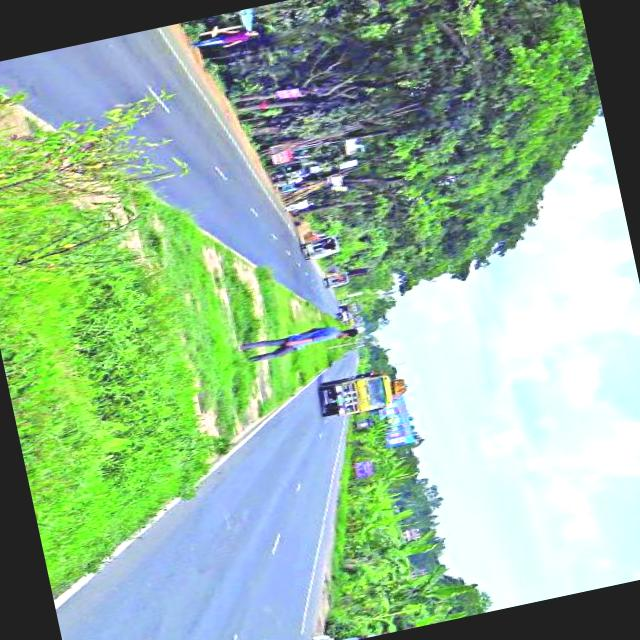bus: (303, 232, 345, 260), (324, 271, 352, 288)
car: (340, 308, 356, 320)
motorcycle: (339, 296, 352, 302)
truck: (320, 364, 408, 416), (342, 297, 362, 312)
